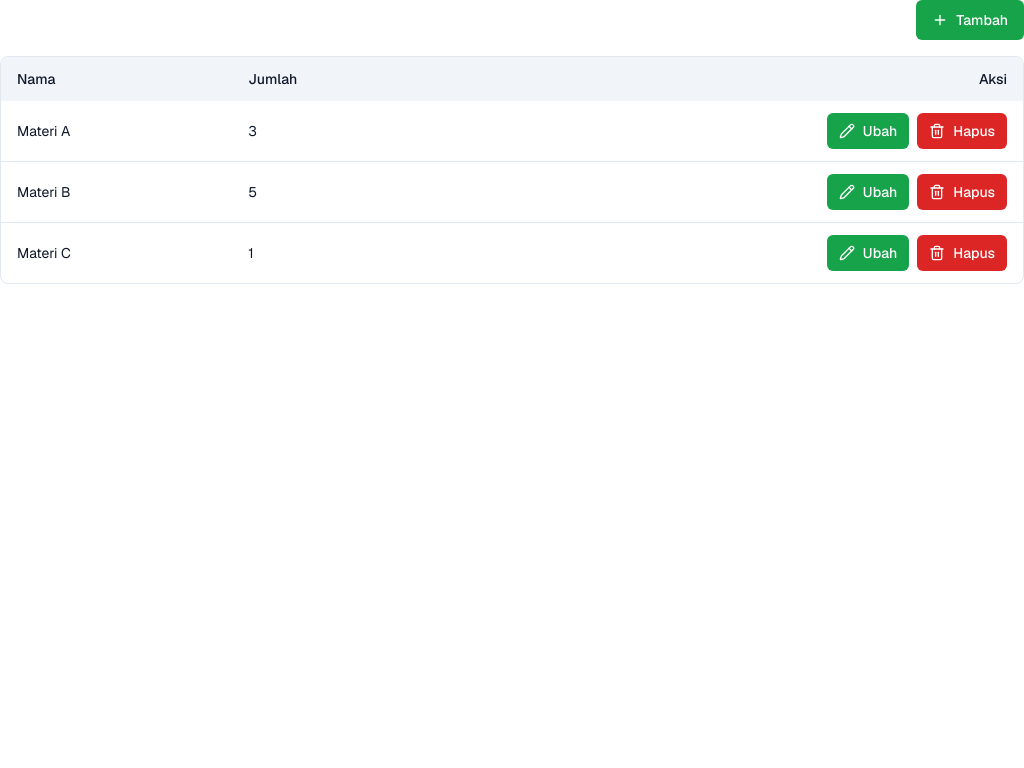
Test case: CrudTable › shows delete confirmation dialog before deleting
Click the button "Hapus" in the row of "Materi A" at (962, 131), box [917,113,1007,149]
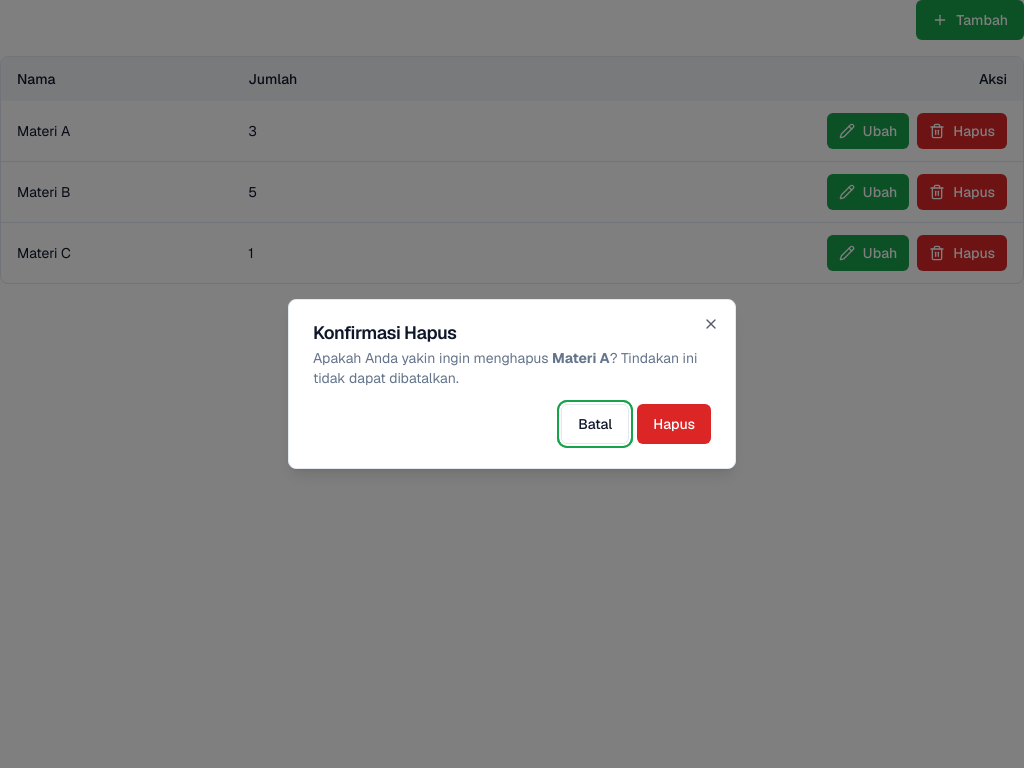
expect the heading "Konfirmasi Hapus" is shown: met, box [313,321,457,344]
expect the text "Materi A" is shown: met, box [552,349,610,367]
